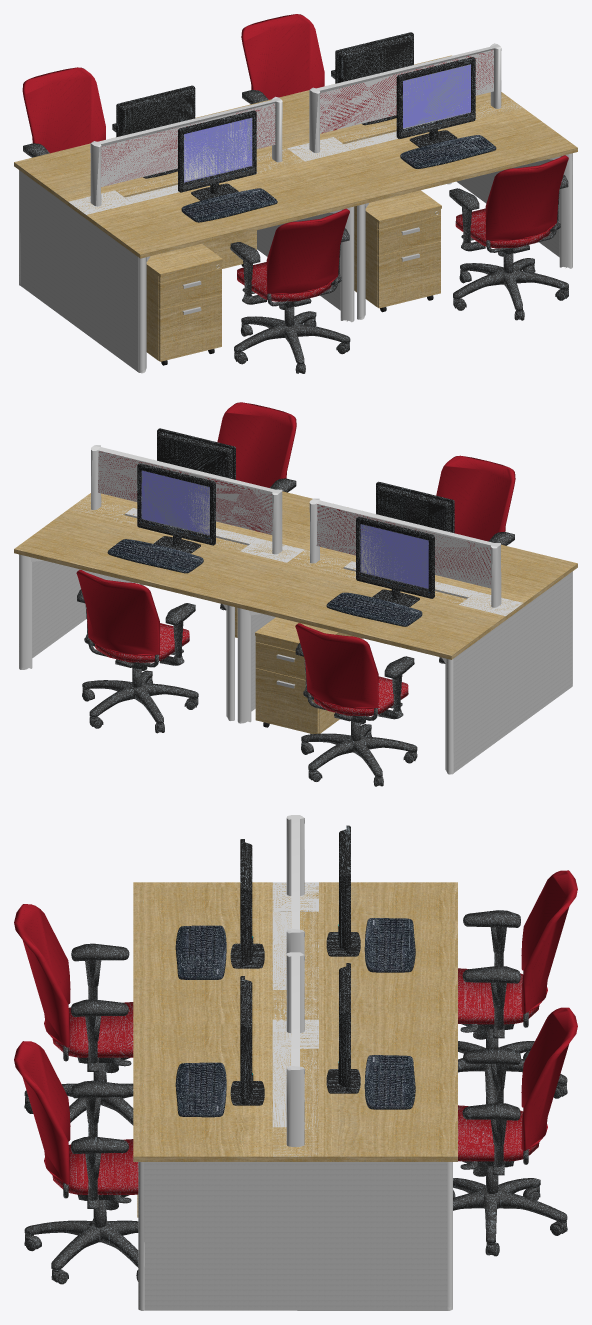
Rendered from estação+linear+900.dae.
3 renders of one model, top to bottom at view 1: azimuth 30°, elevation 25°; view 2: azimuth 150°, elevation 25°; view 3: azimuth 270°, elevation 25°, orthographic. The views are drawn at different scales.
Visible parts, largest first — view 1: _3_M1L925FD-S-1414 (×10), _3_41NPIS-R_1 (×10), group_12 (×7), group_7, _3_PFM1L925-14 (×4), Grupo_359 (×2), Grupo_357 (×2), Grupo_346 (×2), group_13 (×2), Grupo_351 (×2), image_0, group_11 (+2 smaller); view 2: _3_M1L925FD-S-1414 (×8), _3_41NPIS-R_1 (×10), group_12 (×6), group_7, _3_PFM1L925-14 (×4), group_11, Grupo_359, group_13 (×2), Grupo_357, image_0 (×2), Grupo_346, group_6; view 3: _3_M1L925FD-S-1414 (×11), _3_41NPIS-R_1 (×20), group_11, group_13 (×4), group_12 (×8), _3_PFM1L925-14 (×2).
Part boxes in pixels (x1=…): _3_M1L925FD-S-1414 (×10): x1=14, y1=55, x2=577, y2=373; _3_41NPIS-R_1 (×10): x1=22, y1=14, x2=568, y2=364; group_12 (×7): x1=116, y1=35, x2=475, y2=192; group_7: x1=20, y1=171, x2=137, y2=371; _3_PFM1L925-14 (×4): x1=90, y1=43, x2=501, y2=206; Grupo_359 (×2): x1=158, y1=241, x2=440, y2=361; Grupo_357 (×2): x1=158, y1=215, x2=440, y2=309; Grupo_346 (×2): x1=146, y1=190, x2=441, y2=277; group_13 (×2): x1=181, y1=135, x2=496, y2=222; Grupo_351 (×2): x1=146, y1=206, x2=377, y2=357; image_0: x1=184, y1=118, x2=252, y2=181; group_11: x1=457, y1=159, x2=559, y2=257; _3_M1L925FD-S-1414 (×8): x1=14, y1=491, x2=577, y2=774; _3_41NPIS-R_1 (×10): x1=76, y1=402, x2=515, y2=776; group_12 (×6): x1=137, y1=431, x2=451, y2=598; group_7: x1=453, y1=572, x2=571, y2=772; _3_PFM1L925-14 (×4): x1=91, y1=445, x2=501, y2=607; group_11: x1=32, y1=560, x2=135, y2=657; Grupo_359: x1=255, y1=668, x2=319, y2=734; group_13 (×2): x1=107, y1=539, x2=422, y2=626; Grupo_357: x1=255, y1=642, x2=305, y2=679; image_0 (×2): x1=144, y1=482, x2=425, y2=587; Grupo_346: x1=255, y1=617, x2=341, y2=645; group_6: x1=251, y1=614, x2=275, y2=711; _3_M1L925FD-S-1414 (×11): x1=133, y1=882, x2=457, y2=1310; _3_41NPIS-R_1 (×20): x1=14, y1=870, x2=577, y2=1269; group_11: x1=143, y1=1162, x2=447, y2=1310; group_13 (×4): x1=175, y1=918, x2=415, y2=1117; group_12 (×8): x1=240, y1=825, x2=350, y2=1103; _3_PFM1L925-14 (×2): x1=286, y1=815, x2=304, y2=1146.
Size of the model in its own units: 110 by 95.82 by 47.
23 materials, 7 textured.
